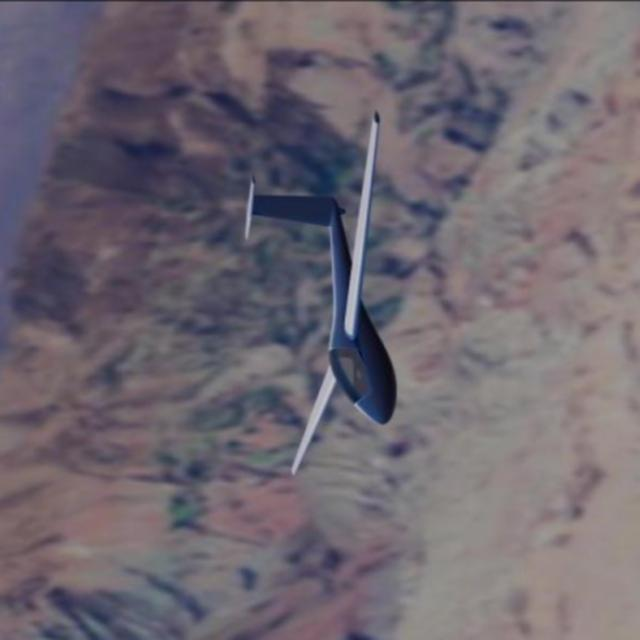plane: (242, 108, 399, 474)
